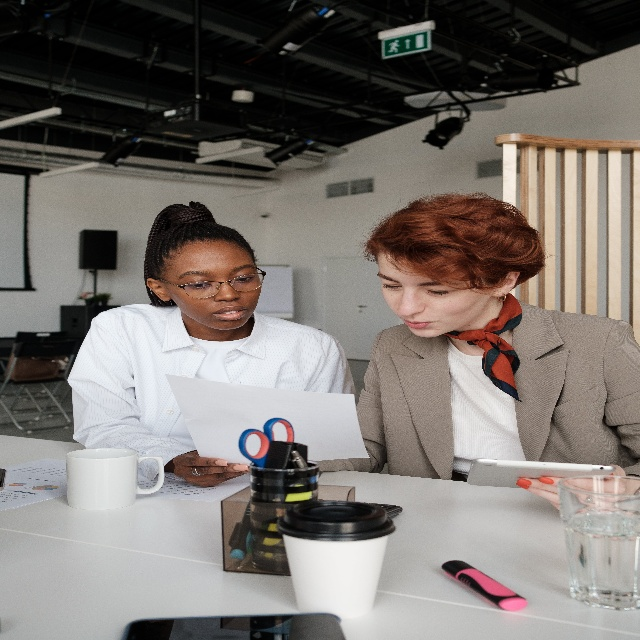Gafas: (154, 266, 266, 299)
Sin_guantes: (515, 465, 626, 511), (172, 447, 252, 489)
